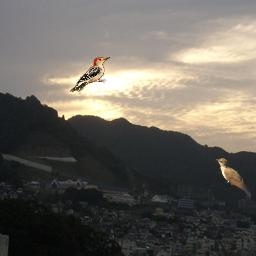Cuckoo: (215, 158, 251, 198)
Woodpecker: (70, 57, 110, 92)
